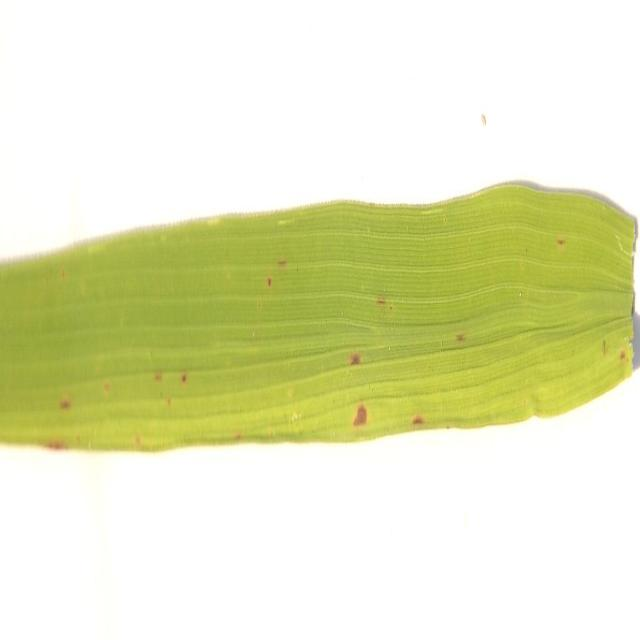Brown_Spot: (339, 309, 381, 438), (261, 233, 292, 296), (147, 366, 194, 396), (408, 384, 426, 448), (452, 320, 475, 354), (57, 379, 71, 425)
